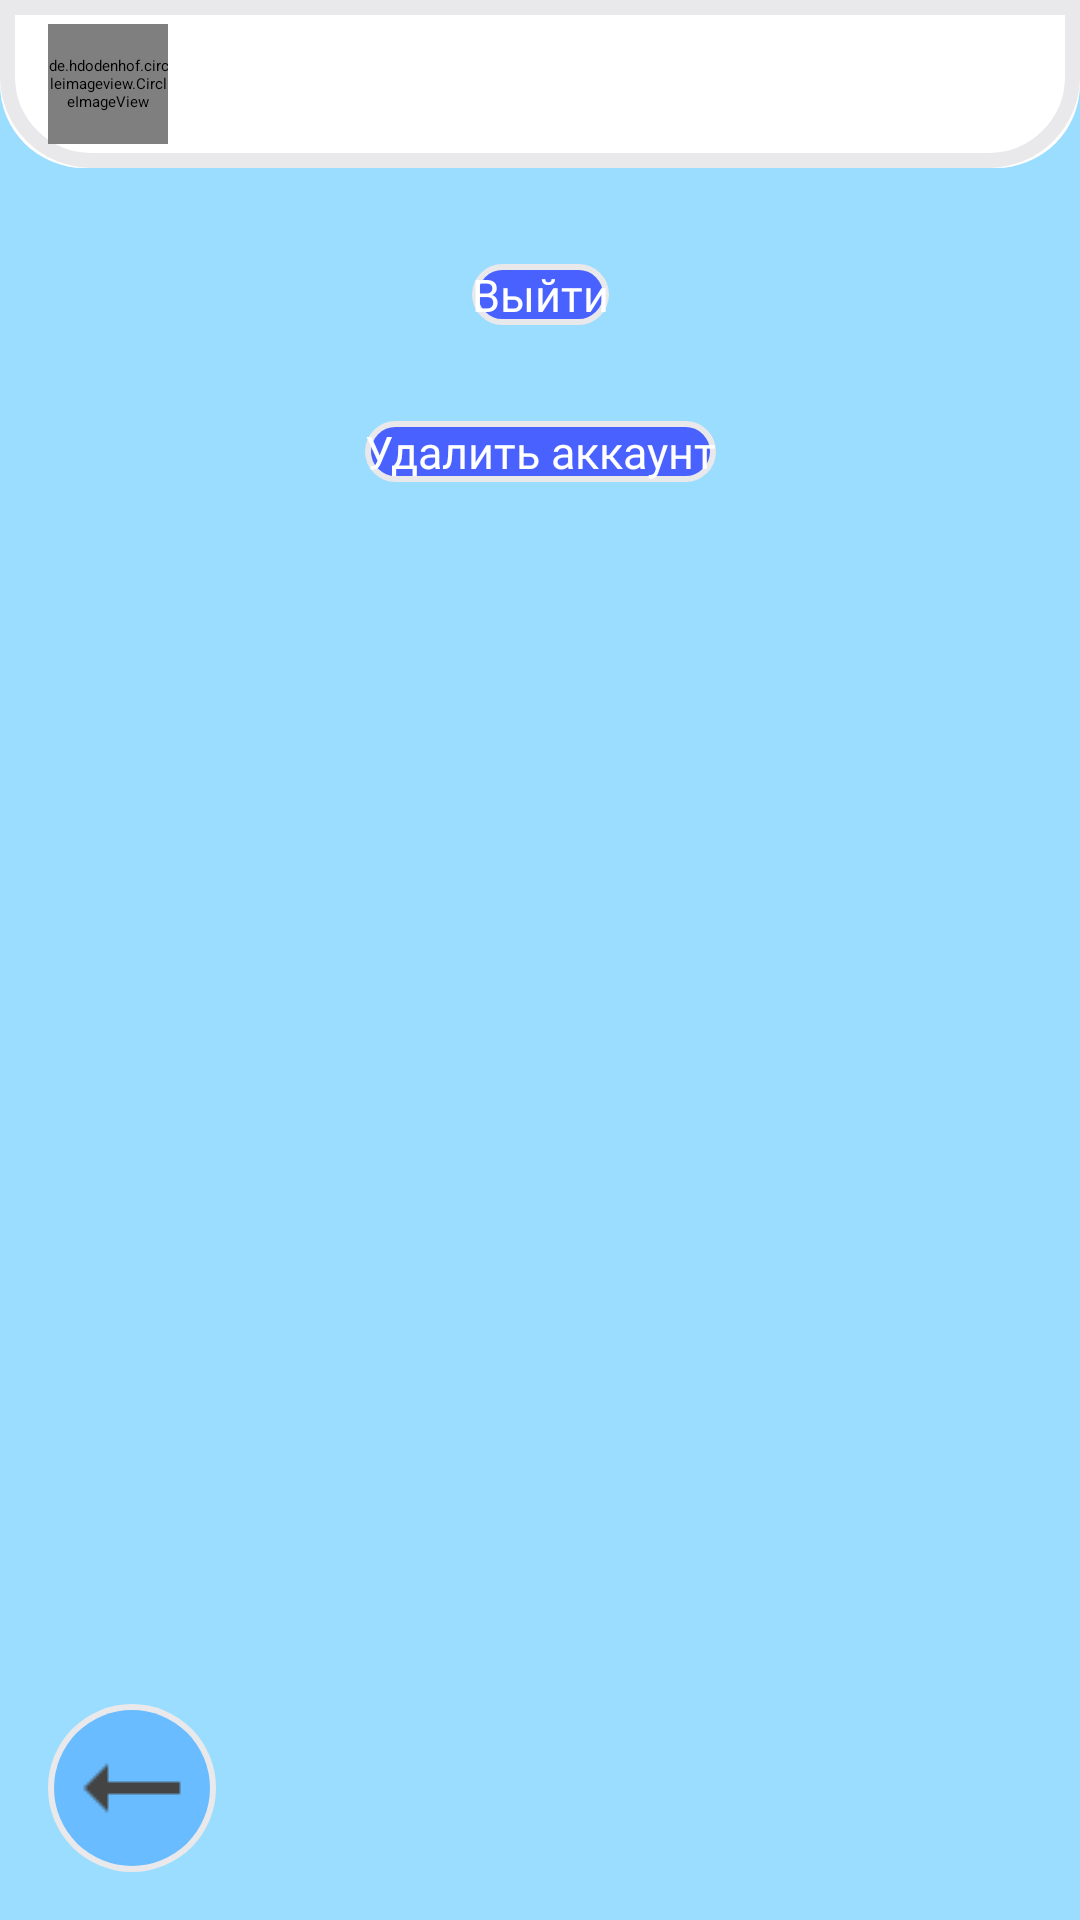

Named icons in this screenshot (1080×1920) and their centers, point (x, y):
back: point (132, 1788)
